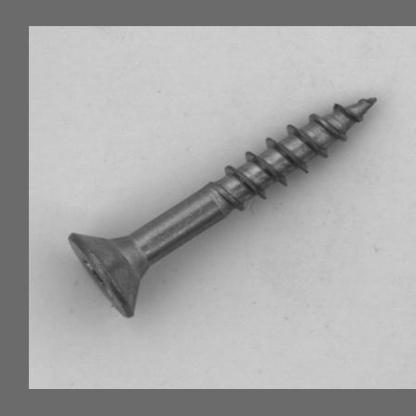metal: (67, 95, 377, 317)
